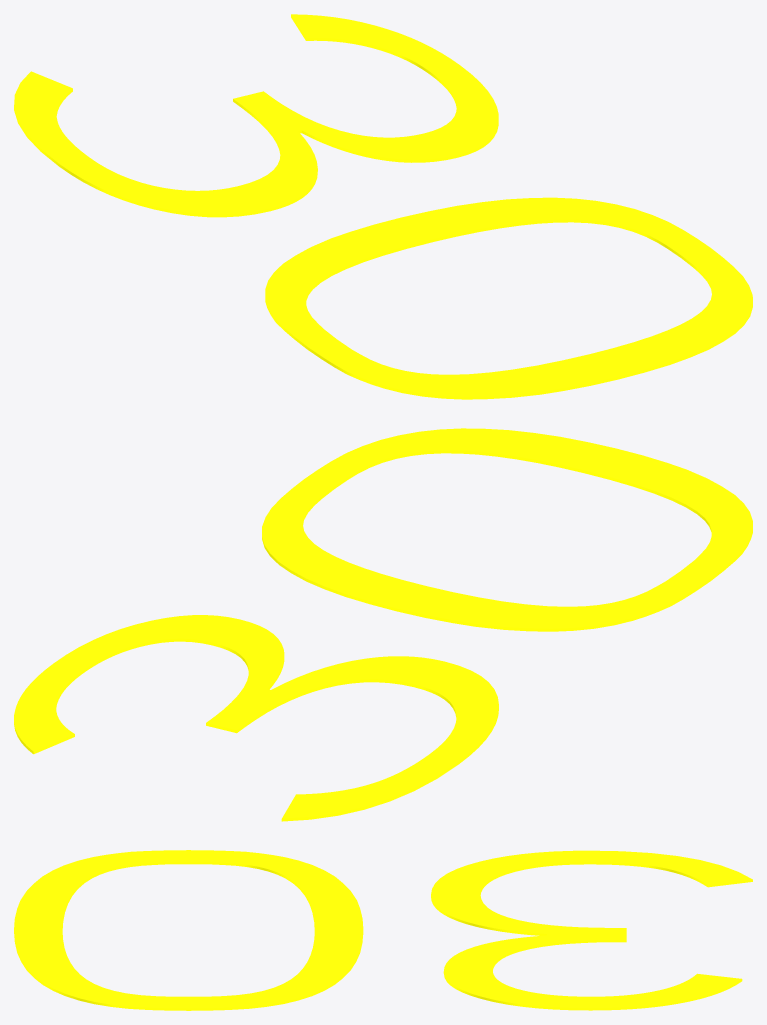
The model's file is Maximum_RoadSurface_Speed_Limit_30.glb.
3 renders of one model, top to bottom at view 1: azimuth 30°, elevation 25°; view 2: azimuth 150°, elevation 25°; view 3: azimuth 270°, elevation 25°, orthographic. The views are drawn at different scales.
Parts seen in each view (by area): view 1: Maximum_RoadSurface_Speed_Limit_30; view 2: Maximum_RoadSurface_Speed_Limit_30; view 3: Maximum_RoadSurface_Speed_Limit_30.
Boxes of the visible parts, bbox=[...] form: Maximum_RoadSurface_Speed_Limit_30: bbox=[14, 14, 752, 399]; Maximum_RoadSurface_Speed_Limit_30: bbox=[14, 428, 752, 821]; Maximum_RoadSurface_Speed_Limit_30: bbox=[14, 850, 752, 1010].
Bounding box in the file's own units: 1.47 × 0.0101 × 2.9.
